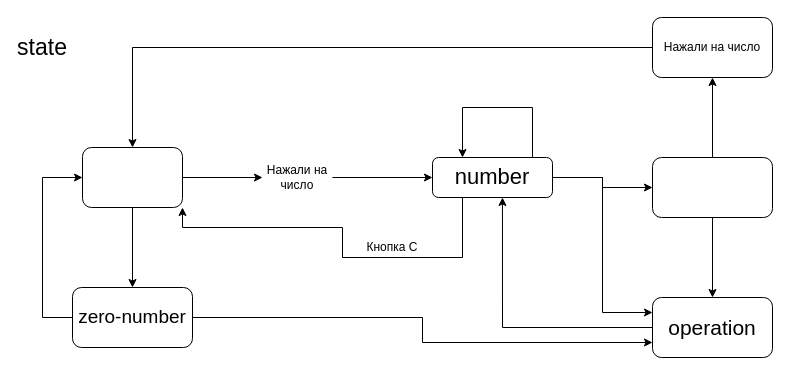
Some shapes in this 790 by 375 pixel diagram are drawn without their labels. The shapes that lost their labels are listed below. From the top down, each one's centre as x and y in pixels, then its label:
the point at 132,177: clear
the point at 712,187: equal
